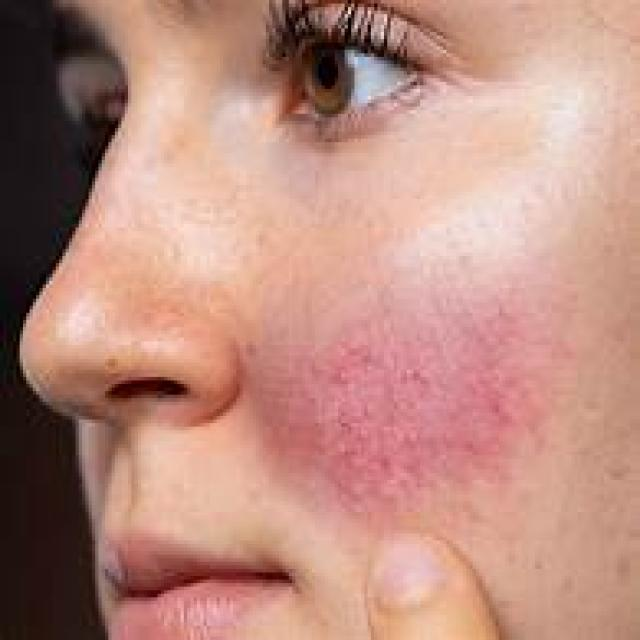Rosacea: (296, 322, 503, 506)
